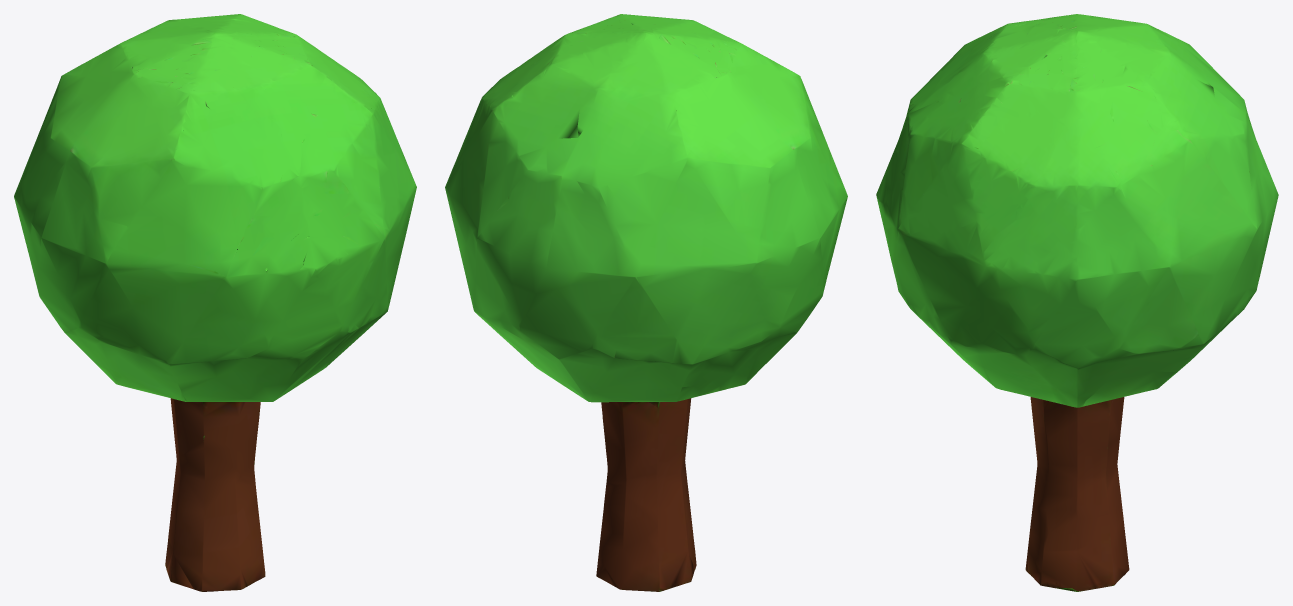
File: decor_tree.glb
3 renders of one model, left to right at view 1: azimuth 30°, elevation 25°; view 2: azimuth 150°, elevation 25°; view 3: azimuth 270°, elevation 25°, orthographic.
Parts seen in each view (by area): view 1: Mesh_0; view 2: Mesh_0; view 3: Mesh_0.
Part boxes in pixels (x1,y1,x2,y2): Mesh_0: [14, 14, 416, 591]; Mesh_0: [445, 14, 847, 591]; Mesh_0: [876, 14, 1278, 591].
Size of the model in its own units: 1.29 by 1.91 by 1.29.
Materials: 1 (1 with a texture image).
